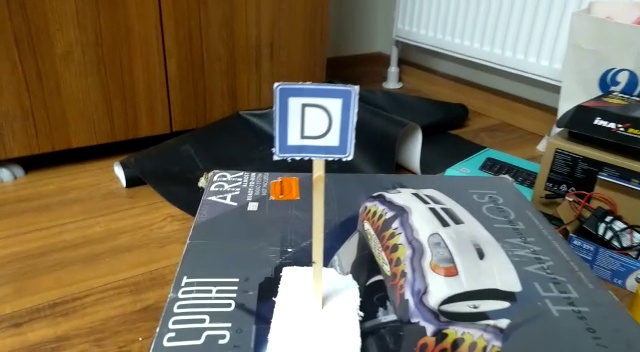durak: (271, 83, 354, 162)
